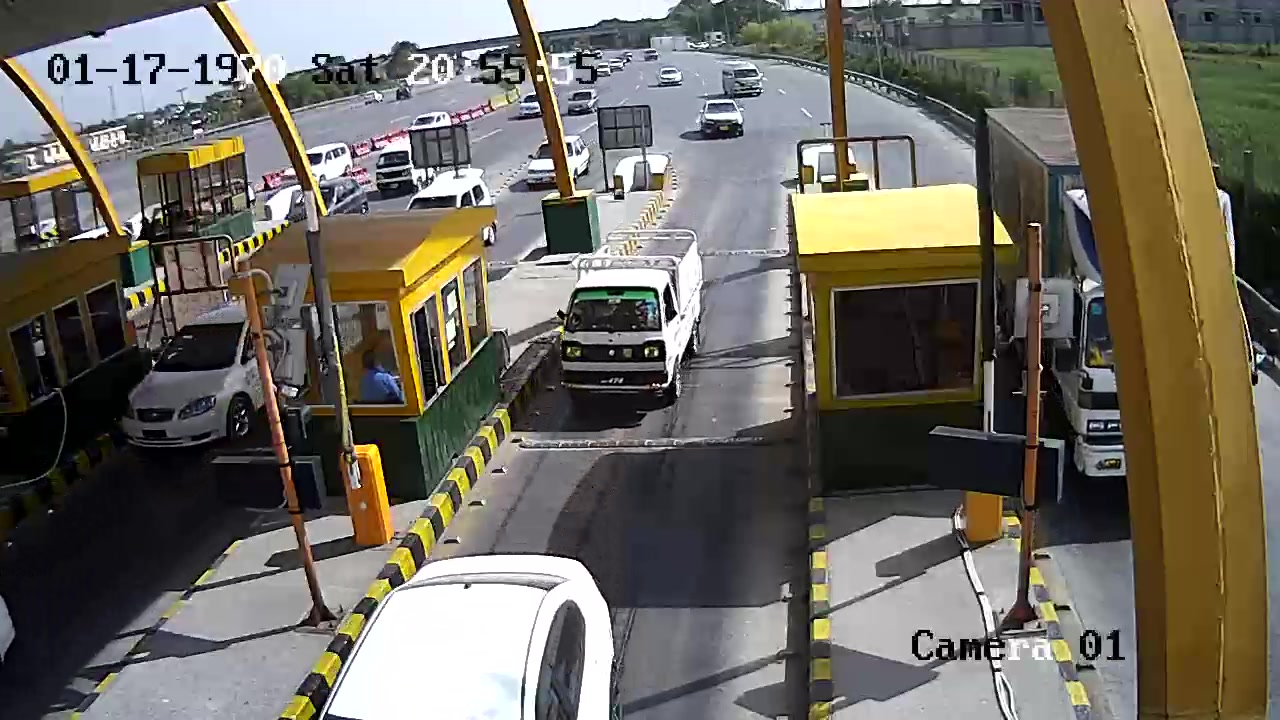F1: (552, 223, 725, 409)
